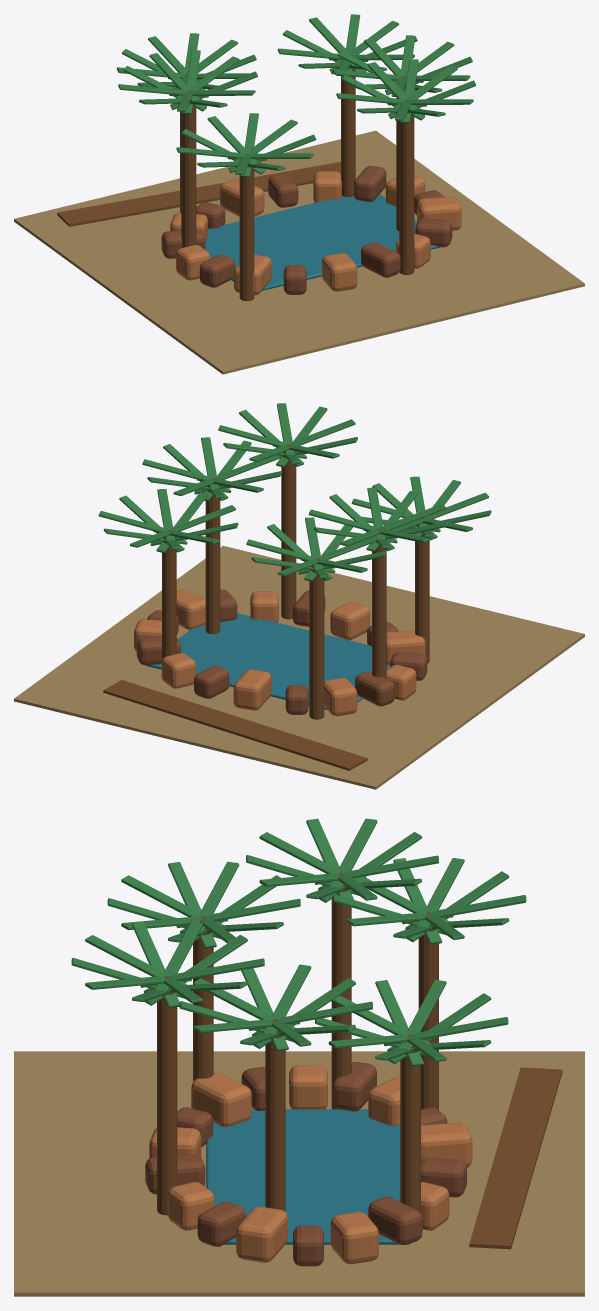
The model's file is rorng_city_infill_arroyo_oasis_19m.glb.
3 views of the same model, one above another, from view 1: azimuth 30°, elevation 25°; view 2: azimuth 150°, elevation 25°; view 3: azimuth 270°, elevation 25° (orthographic). The views are drawn at different scales.
Parts seen in each view (by area): view 1: rorng_city_infill_arroyo_oasis_19m_lod0; view 2: rorng_city_infill_arroyo_oasis_19m_lod0; view 3: rorng_city_infill_arroyo_oasis_19m_lod0.
Part boxes in pixels (x1,y1,x2,y2): rorng_city_infill_arroyo_oasis_19m_lod0: (14,14,584,374); rorng_city_infill_arroyo_oasis_19m_lod0: (14,403,584,789); rorng_city_infill_arroyo_oasis_19m_lod0: (14,818,584,1296).
Size of what is drawn, in the model's own units: 19 by 9.37 by 19.
